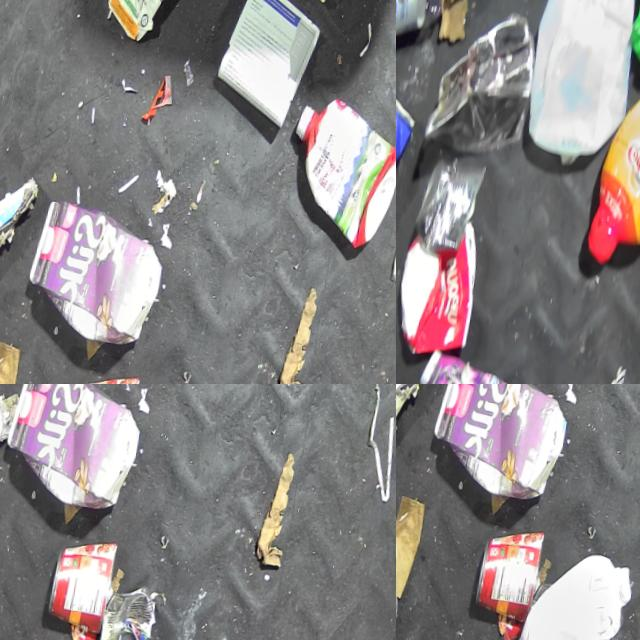can: (477, 519, 566, 625), (418, 156, 494, 254), (55, 538, 131, 636), (106, 583, 174, 640)
milk_jug: (521, 0, 640, 163), (515, 545, 640, 640)
non_white_jug: (5, 384, 157, 518), (589, 76, 640, 269)
plastic_bottle: (396, 0, 449, 51)
